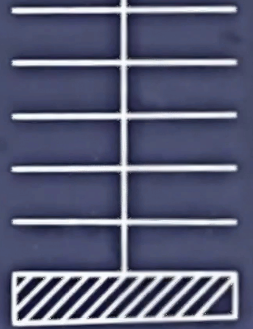Vacant: (12, 62, 123, 118), (12, 169, 124, 223), (123, 10, 237, 63), (12, 10, 124, 63), (124, 169, 236, 222), (123, 64, 237, 116), (124, 117, 237, 169), (124, 221, 236, 273), (13, 117, 124, 169), (12, 223, 125, 273)
